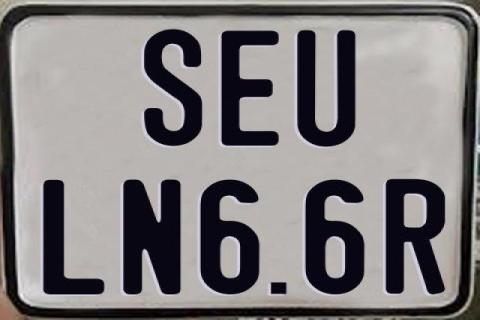0: (302, 178, 368, 296), (198, 177, 258, 295)
E: (218, 29, 277, 149)
L: (40, 178, 107, 294)
N: (121, 178, 180, 298)
R: (384, 177, 449, 297)
S: (142, 27, 206, 147)
U: (296, 30, 356, 150)
